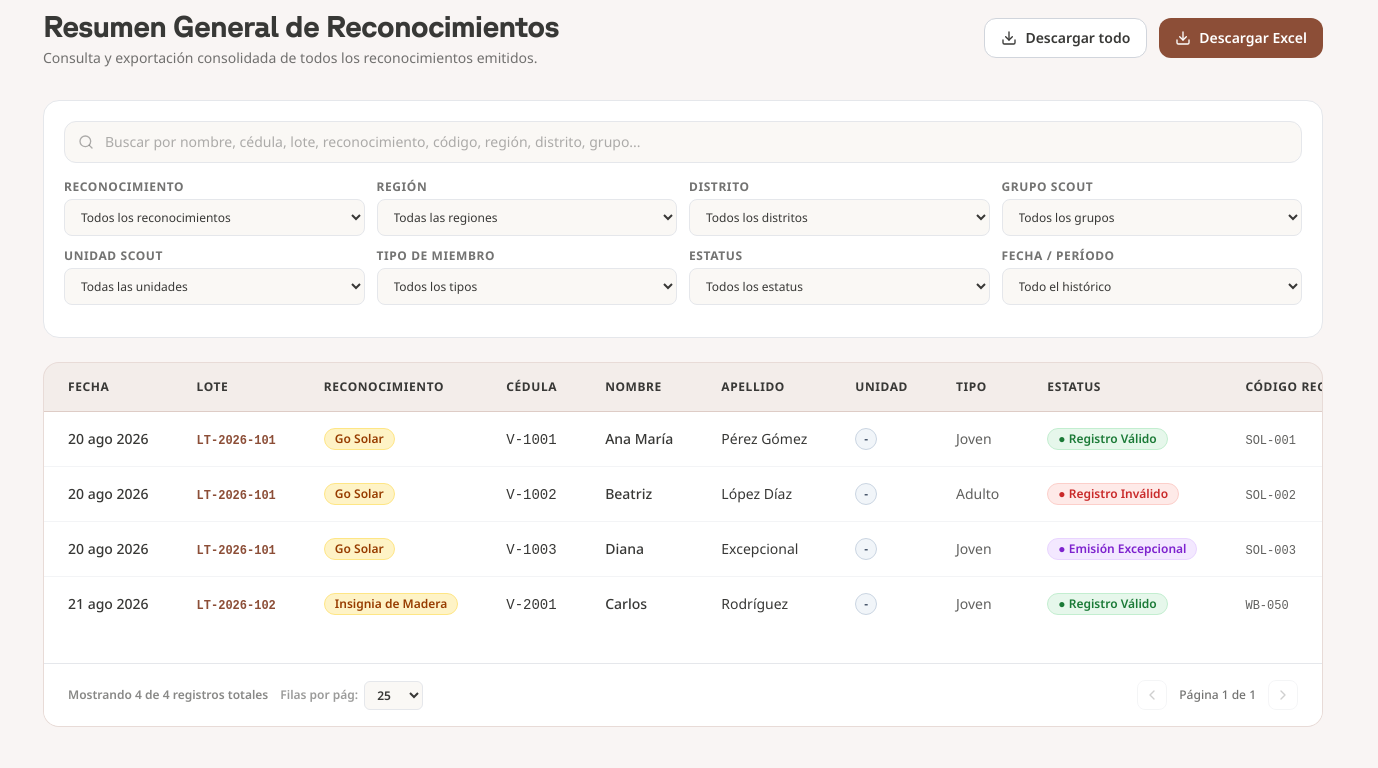
Test: SummaryView component › filters by member type (young / adult)
Expected: the text "V-1001" is shown, left=506, top=432, right=557, bottom=448
// Select Jóvenes
Select "Jóvenes" in the dropdown named "Filtrar por tipo de miembro" at point(527, 286), box left=376, top=268, right=677, bottom=305
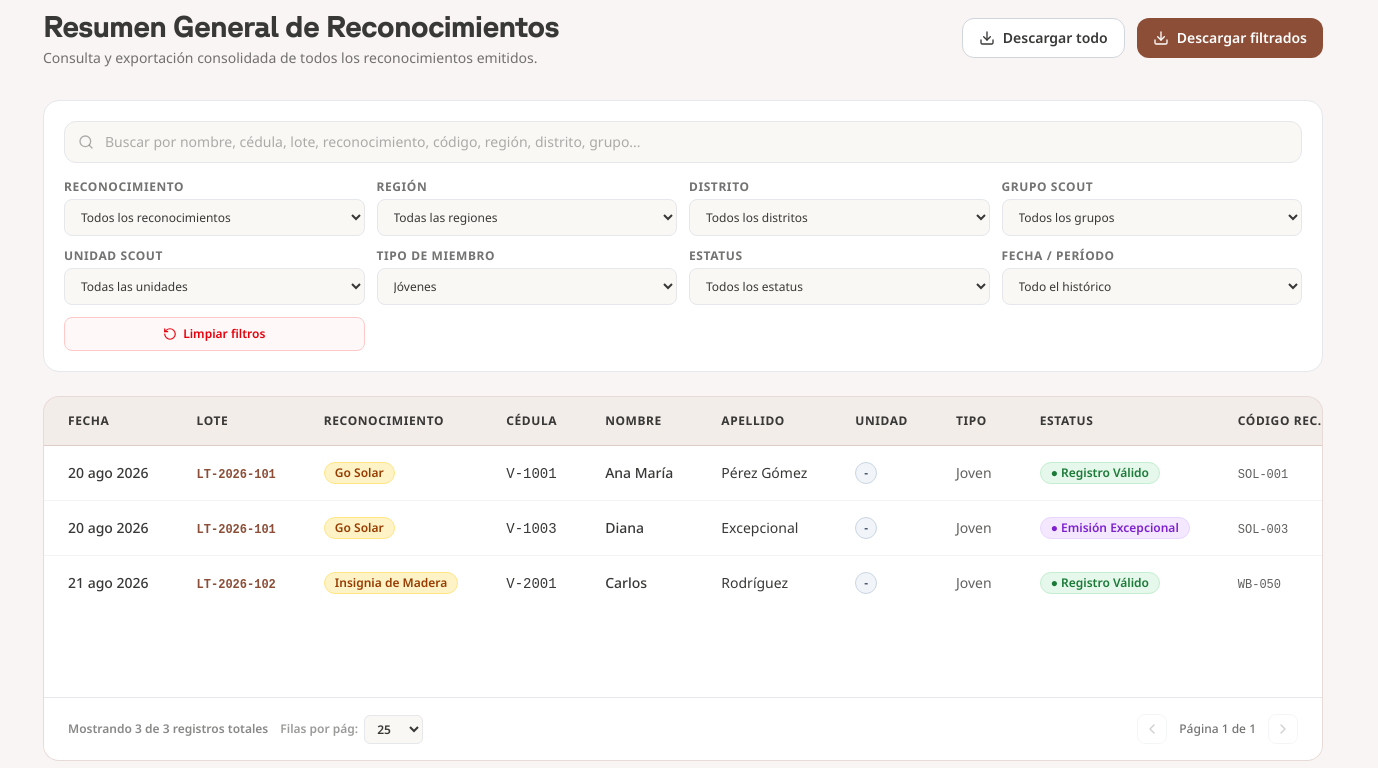
Expected: the text "V-1001" is shown, left=506, top=466, right=557, bottom=482
Now the text "V-2001" is shown, box left=506, top=576, right=557, bottom=592
Now the text "V-1002" is gone
// Select Adultos
Select "Adultos" in the dropdown named "Filtrar por tipo de miembro" at point(527, 286), box left=376, top=268, right=677, bottom=305
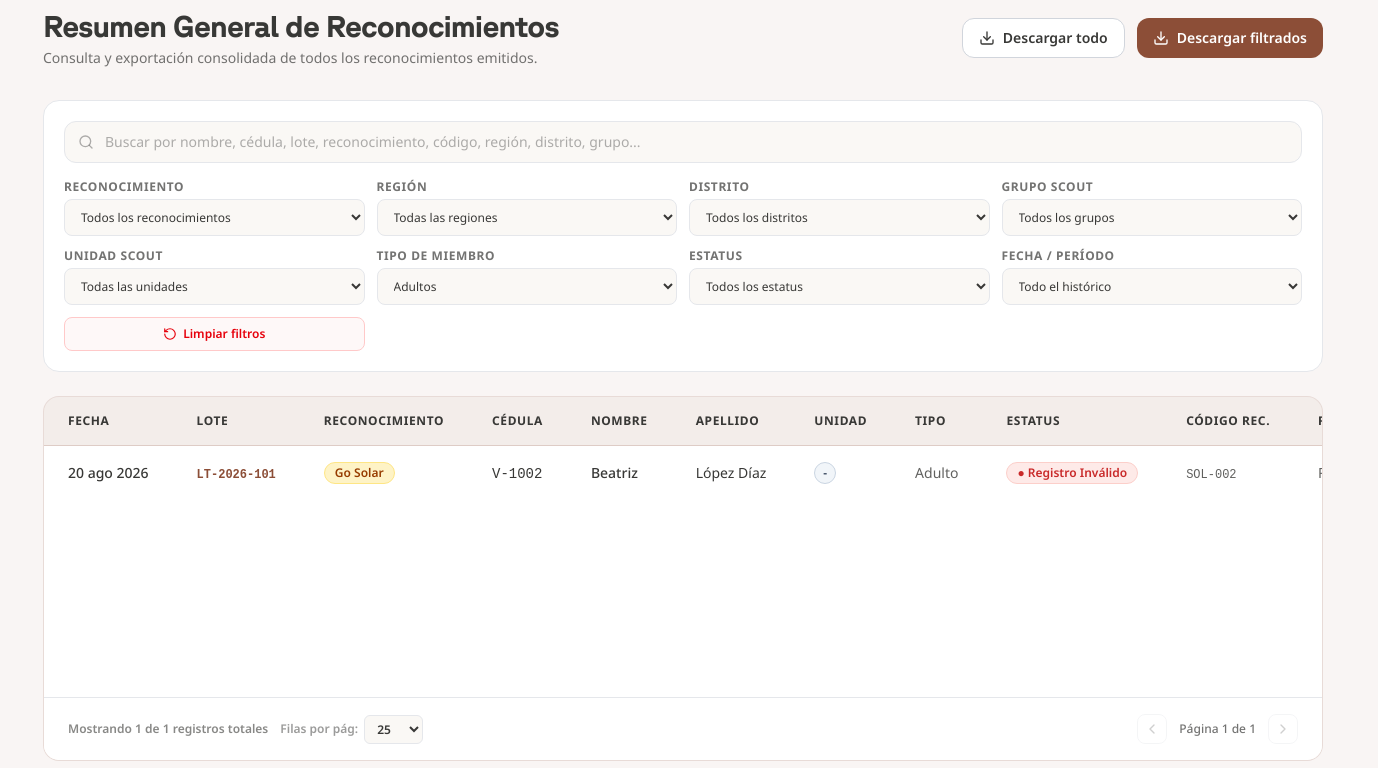
Now the text "V-1002" is shown, box left=492, top=466, right=542, bottom=482
Now the text "V-1001" is gone
Now the text "V-2001" is gone
